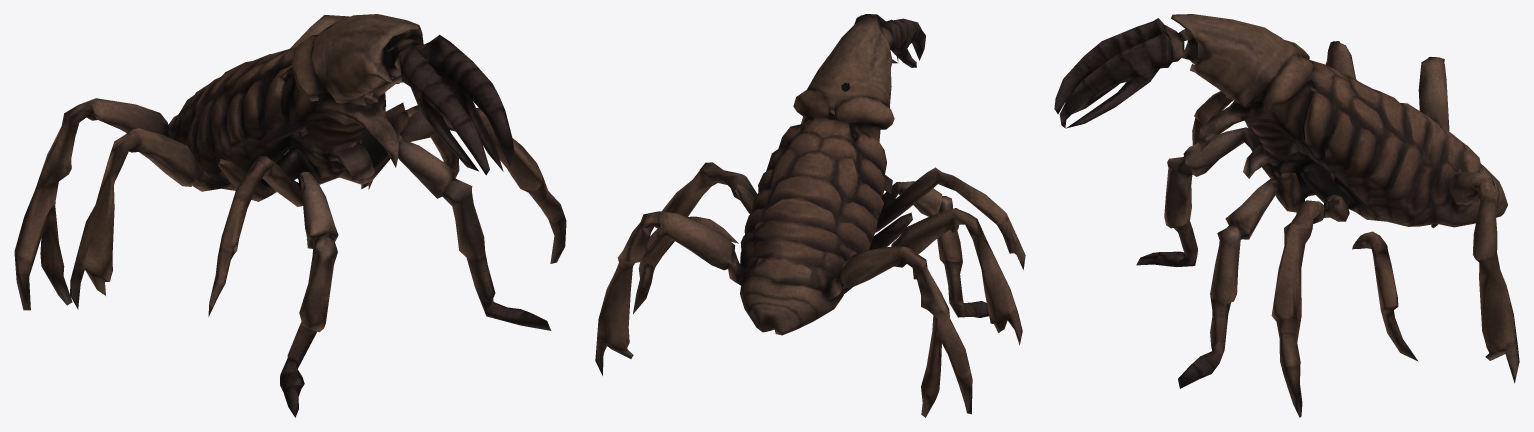
File: scorpion.glb
The picture shows the model from 3 angles, left to right: view 1: azimuth 30°, elevation 25°; view 2: azimuth 150°, elevation 25°; view 3: azimuth 270°, elevation 25°; orthographic projection. The views are drawn at different scales.
Visible parts, largest first — view 1: Creature; view 2: Creature; view 3: Creature.
Part boxes in pixels (x1,y1,x2,y2): Creature: (14,14,566,417); Creature: (595,14,1025,417); Creature: (1054,14,1519,417).
Size of the model in its own units: 1.51 by 1.04 by 1.4.
Materials: 1 (1 with a texture image).
